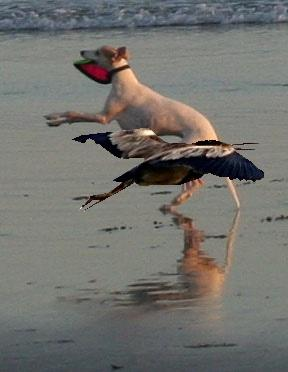tampered: (73, 129, 264, 212)
